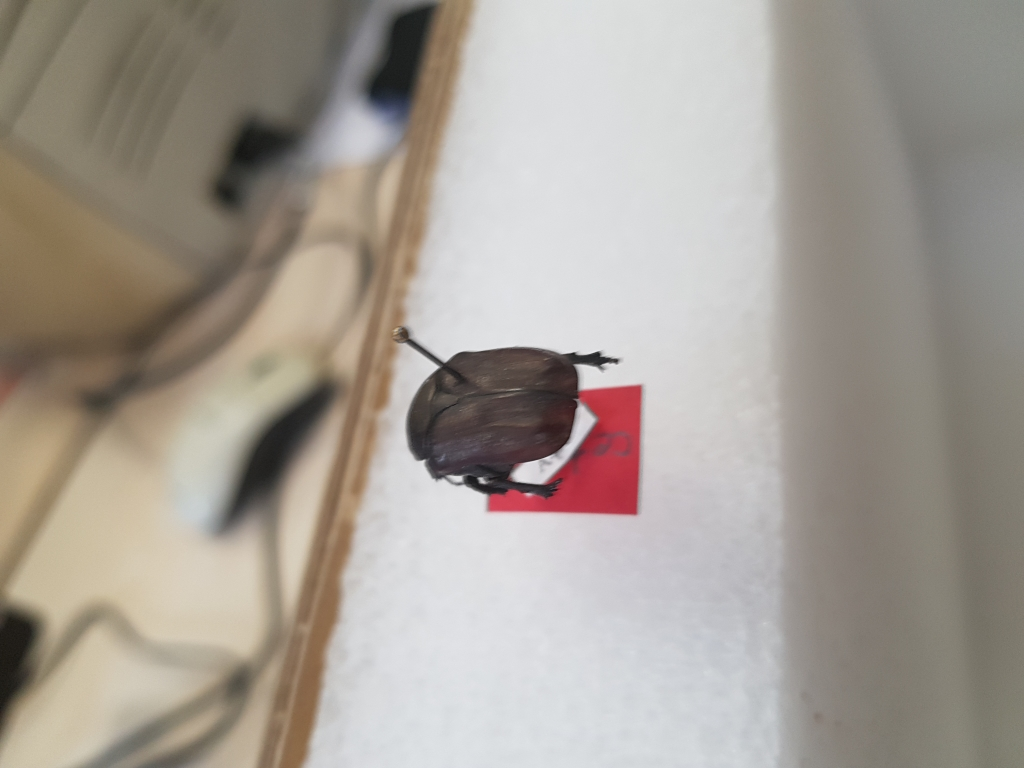Protaetia_asiatica: (400, 339, 633, 505)
